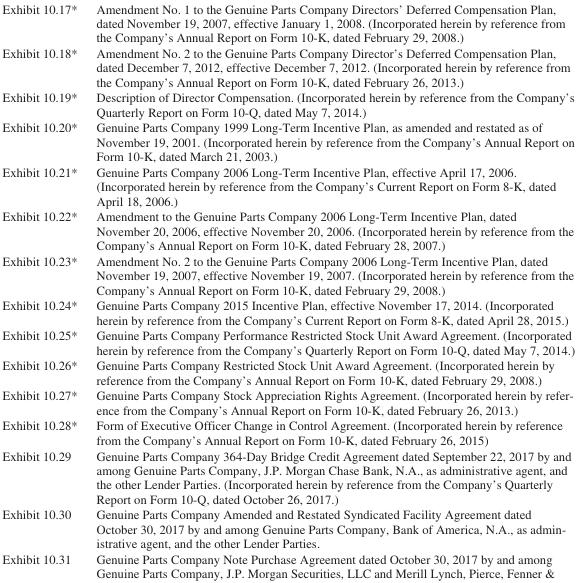table: (1, 1, 574, 579)
table column: (86, 1, 574, 579), (1, 1, 86, 579)
table row: (1, 447, 574, 506), (1, 44, 574, 89), (1, 163, 574, 208), (1, 252, 574, 297), (1, 119, 574, 163), (1, 208, 574, 252), (1, 506, 574, 550), (1, 1, 574, 44), (1, 89, 574, 119), (1, 297, 574, 327), (1, 327, 574, 357), (1, 357, 574, 387), (1, 387, 574, 417), (1, 417, 574, 447), (1, 550, 574, 579)
